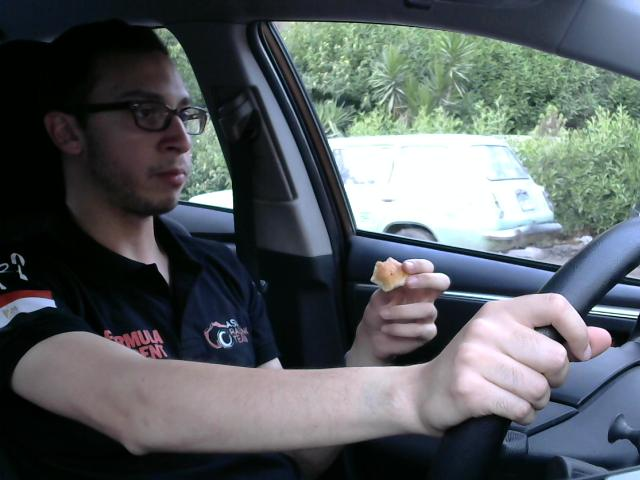Eating: (362, 247, 412, 297)
